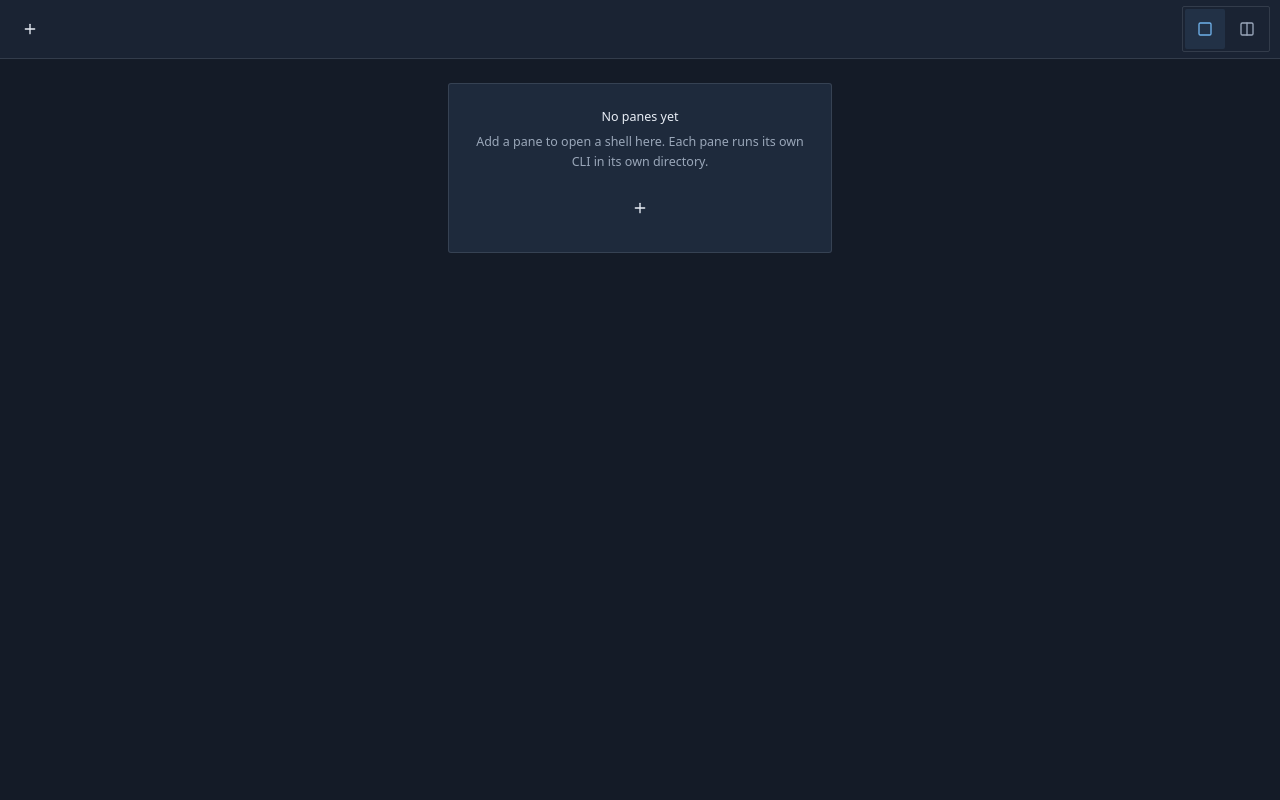
Test: PaneGrid (the unified grid engine) › the "+" preset menu › always offers the raw shell even when the CLI list is unknown
Click the 1st button named "new terminal". click: (30, 29)
box: [10,9,50,49]
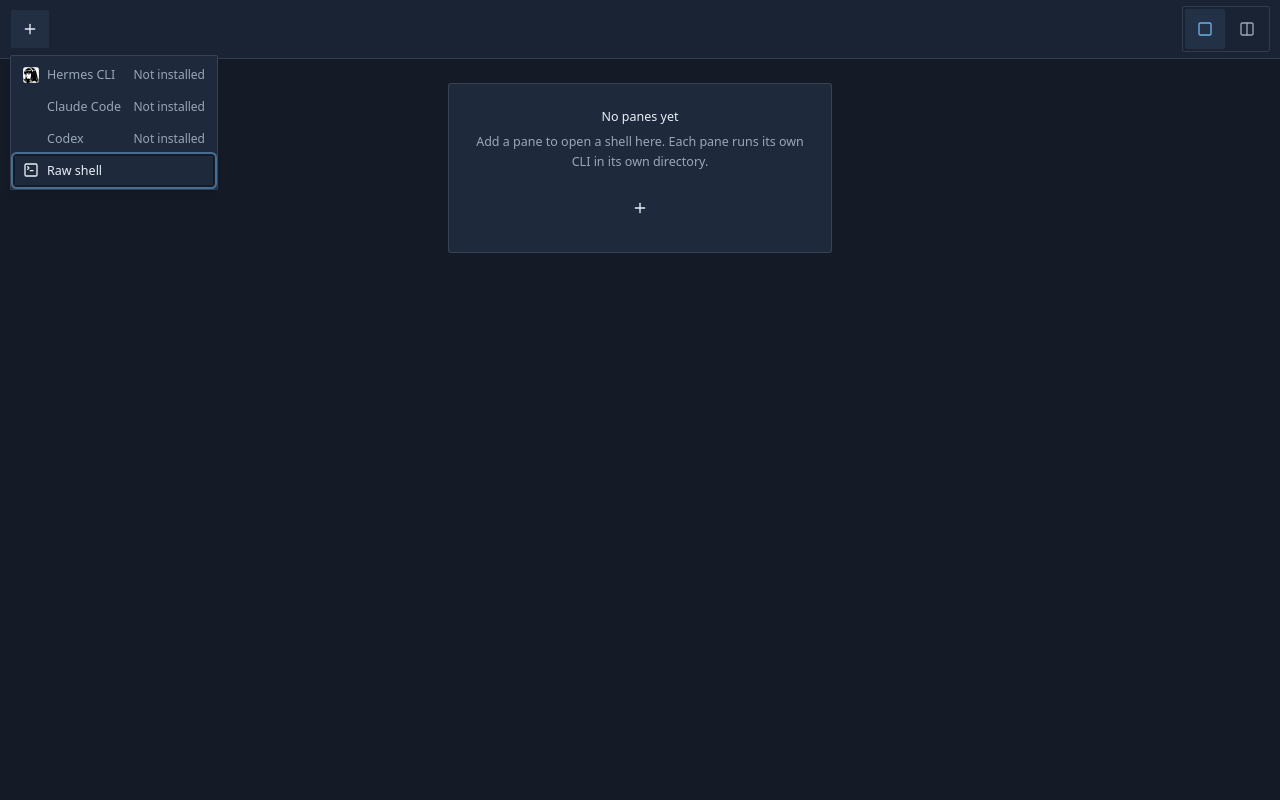
Check: the menu item "Raw shell" is enabled, box [15,156,213,185]
Check: the menu item "Hermes CLI Not installed" is disabled, box [15,60,213,90]
